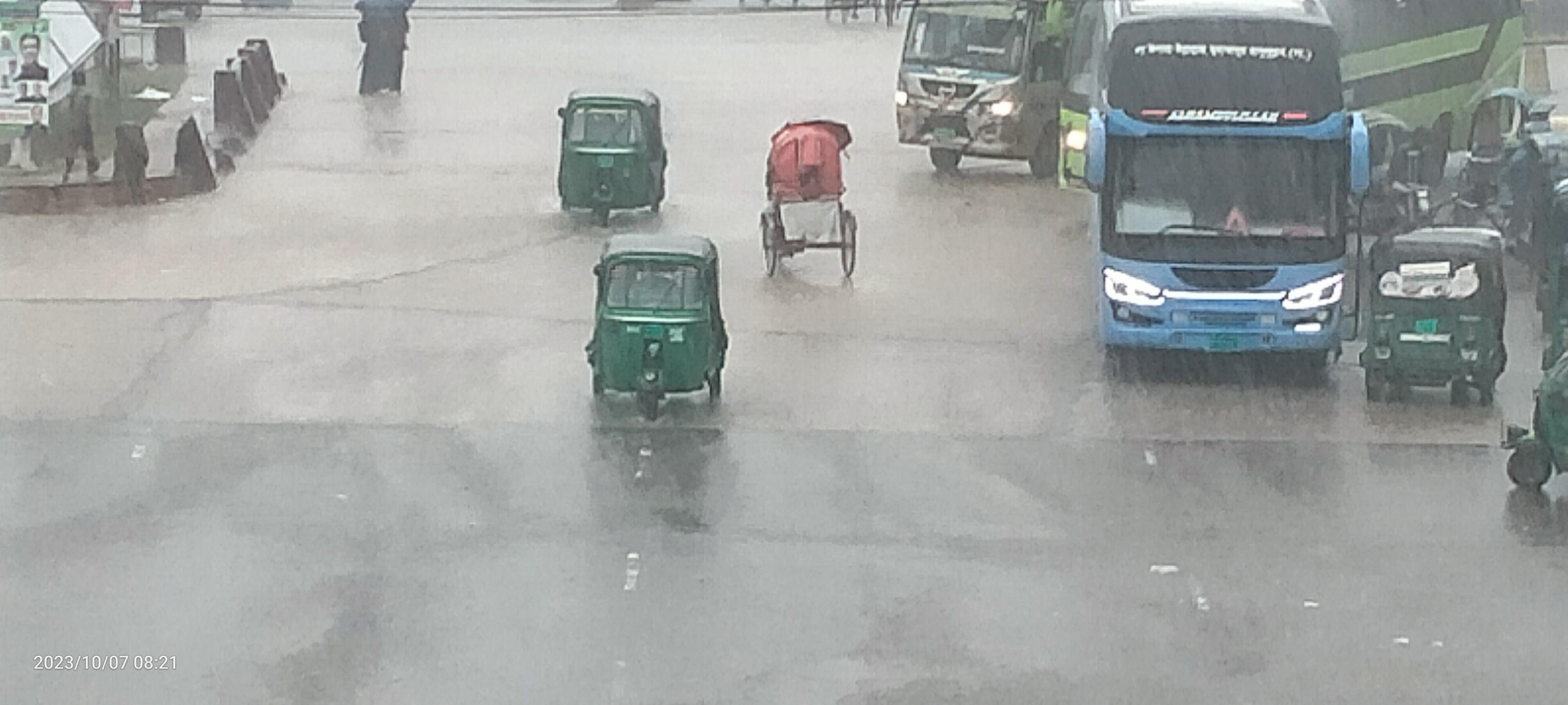Bus: (1082, 11, 1400, 421), (1057, 5, 1568, 210), (873, 0, 1076, 186)
Car: (723, 89, 902, 290)
